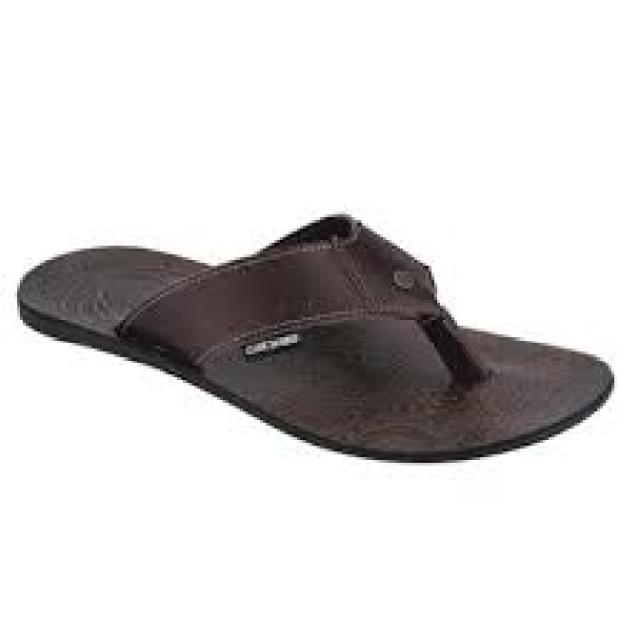Sandals: (16, 80, 627, 528)
